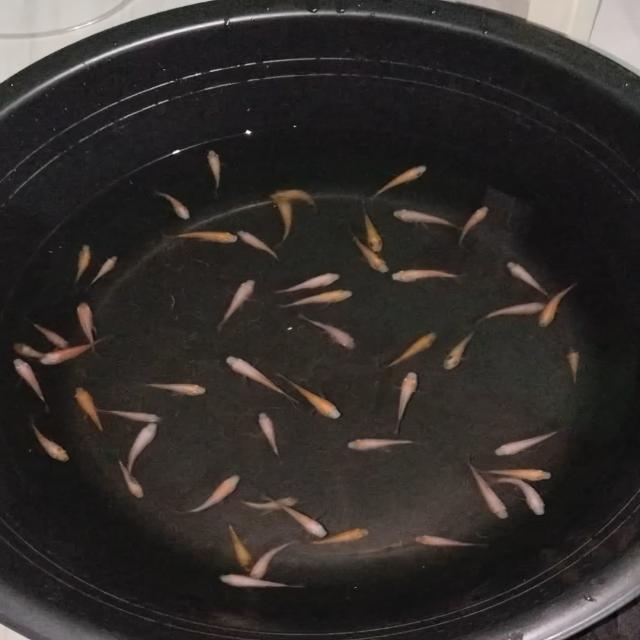nila: (224, 353, 296, 406), (274, 372, 344, 420), (467, 454, 509, 526), (39, 330, 120, 366), (178, 472, 242, 512), (297, 312, 360, 352), (215, 276, 258, 334), (484, 476, 546, 516), (494, 423, 565, 457), (369, 162, 432, 200), (382, 330, 440, 370), (11, 356, 51, 412), (537, 278, 578, 332), (228, 224, 283, 264), (392, 206, 464, 236), (216, 568, 303, 592), (348, 230, 393, 276), (30, 418, 76, 462), (272, 268, 343, 296), (443, 323, 483, 372), (252, 538, 298, 580), (275, 501, 327, 538), (392, 370, 421, 435), (127, 421, 160, 478), (224, 522, 258, 576), (478, 300, 557, 322), (276, 288, 354, 310), (148, 186, 194, 222), (26, 316, 72, 352), (115, 453, 151, 499), (506, 260, 552, 296), (357, 194, 385, 253), (73, 384, 107, 432), (388, 267, 469, 286), (74, 299, 100, 355), (458, 203, 492, 245), (138, 380, 209, 400), (302, 528, 372, 548), (88, 406, 164, 424), (274, 184, 296, 246), (257, 410, 282, 463), (160, 230, 242, 246), (268, 188, 320, 212), (233, 494, 301, 512), (474, 467, 552, 482), (69, 242, 93, 288), (412, 535, 486, 549), (87, 252, 119, 284), (206, 147, 226, 196), (344, 437, 419, 449), (566, 342, 582, 390), (13, 339, 46, 360)
